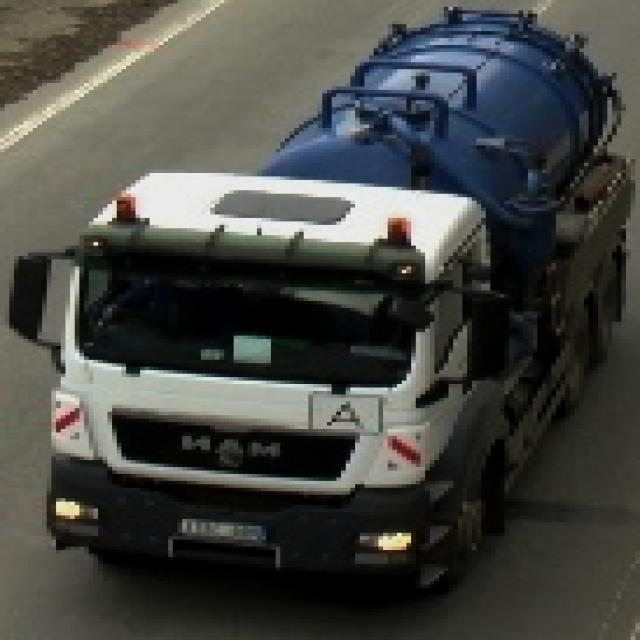truck: (6, 8, 632, 606)
